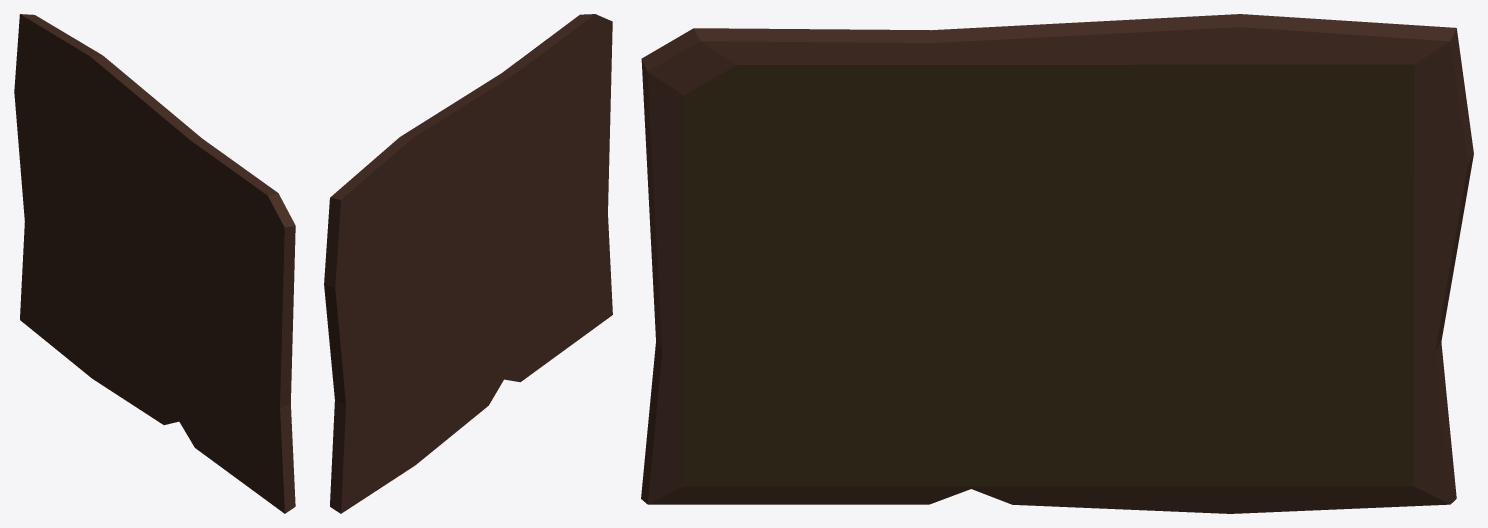
Rendered from WoodSign.fbx.
3 renders of one model, left to right at view 1: azimuth 30°, elevation 25°; view 2: azimuth 150°, elevation 25°; view 3: azimuth 270°, elevation 25°, orthographic. The views are drawn at different scales.
Parts seen in each view (by area): view 1: Cube_low; view 2: Cube_low; view 3: Cube_low.
Part boxes in pixels (left/top/right/bottom): Cube_low: left=14, top=14, right=295, bottom=513; Cube_low: left=324, top=14, right=612, bottom=513; Cube_low: left=641, top=14, right=1473, bottom=513.
Bounding box in the file's own units: 9.49 × 271 × 177.
